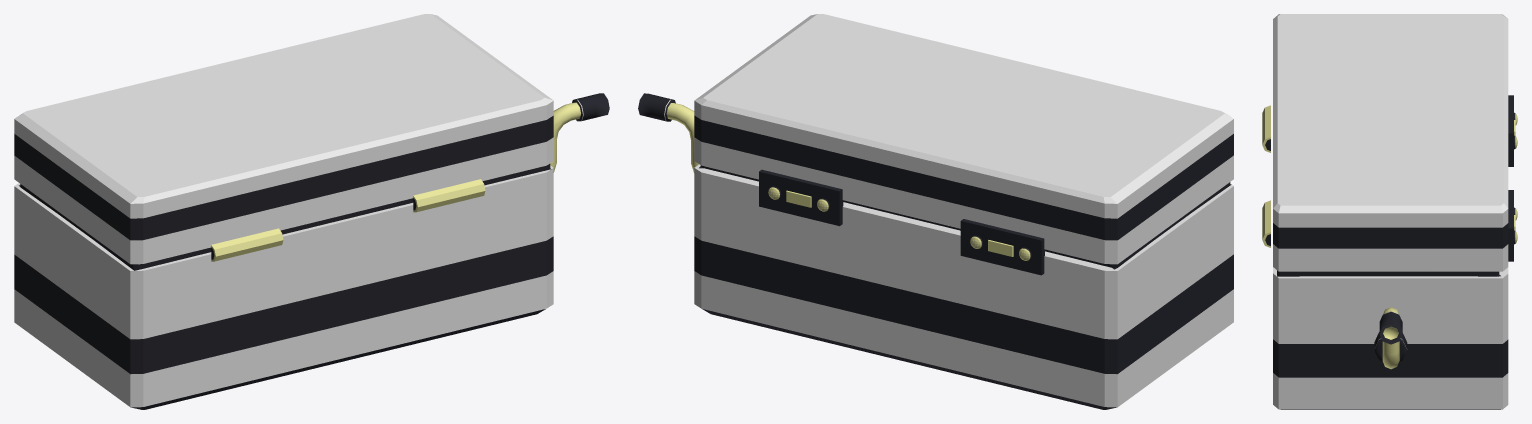
File: Caixa de musica.fbx
3 views of the same model, side by side, from view 1: azimuth 30°, elevation 25°; view 2: azimuth 150°, elevation 25°; view 3: azimuth 270°, elevation 25° (orthographic). The views are drawn at different scales.
Visible parts, largest first — view 1: CaixaCima, CaixaBaixo, Manivela; view 2: CaixaCima, CaixaBaixo, Manivela; view 3: CaixaCima, CaixaBaixo, Manivela.
Part boxes in pixels (x1,y1,x2,y2): CaixaCima: [14, 14, 553, 264]; CaixaBaixo: [14, 164, 553, 409]; Manivela: [550, 93, 609, 172]; CaixaCima: [694, 14, 1233, 275]; CaixaBaixo: [694, 164, 1233, 409]; Manivela: [638, 93, 698, 173]; CaixaCima: [1273, 14, 1517, 271]; CaixaBaixo: [1262, 105, 1508, 409]; Manivela: [1379, 307, 1402, 369].
Bounding box in the file's own units: 50.29 × 19.41 × 21.72.
